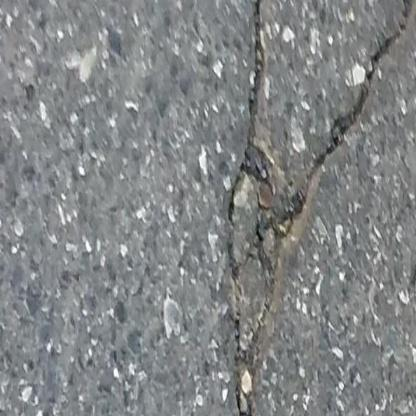Cracks: (224, 0, 416, 416)
